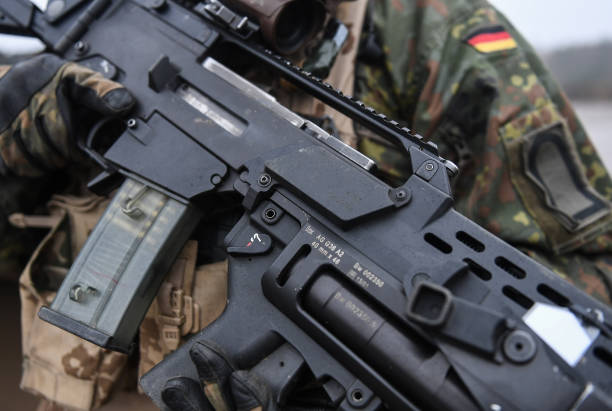rifle: (6, 1, 607, 411)
